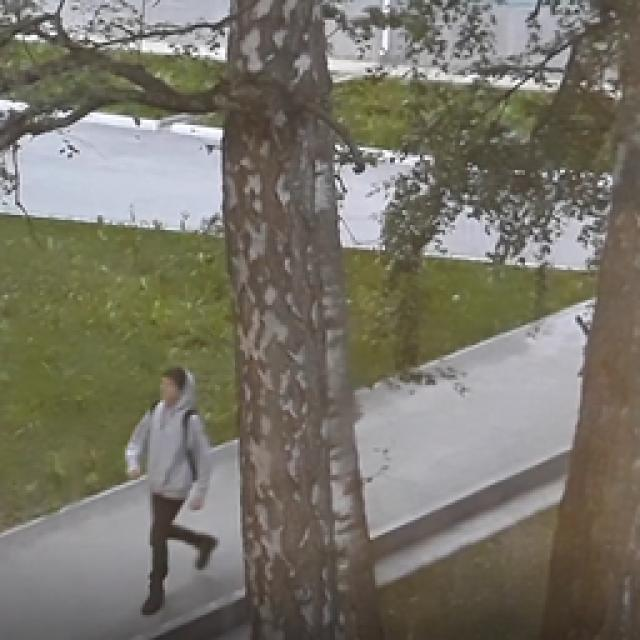Persona: (119, 364, 216, 622)
